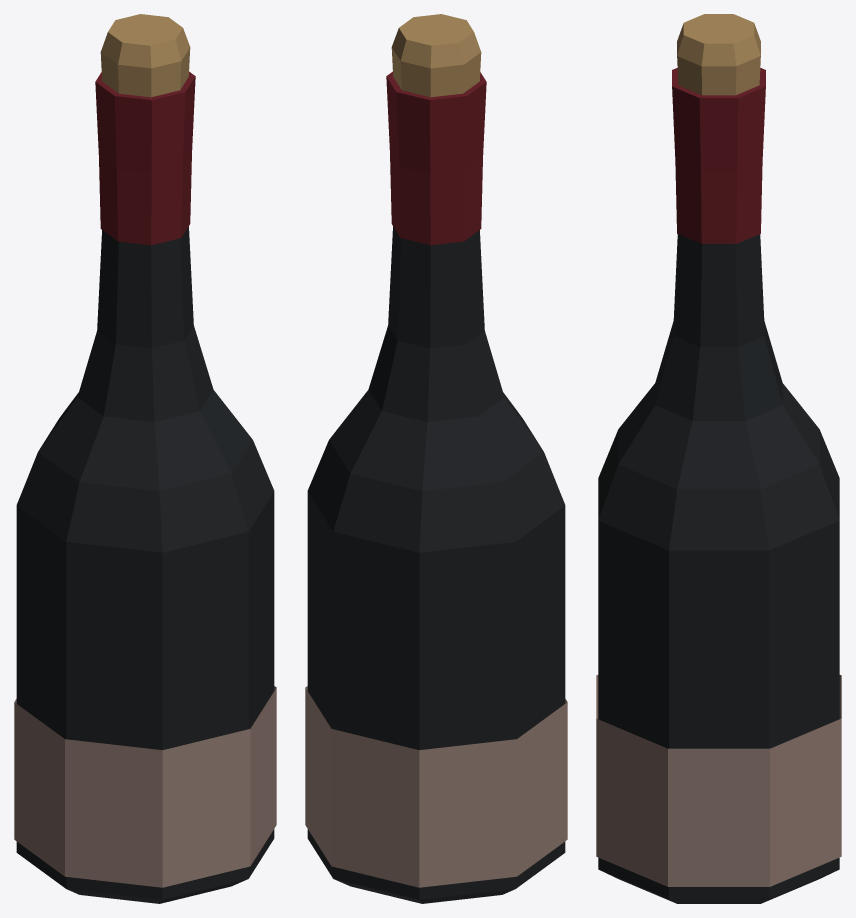
File: WineBottle.fbx
The picture shows the model from 3 angles, left to right: view 1: azimuth 30°, elevation 25°; view 2: azimuth 150°, elevation 25°; view 3: azimuth 270°, elevation 25°; orthographic projection.
Visible parts, largest first — view 1: Bottle_Body, Bottle_Label, Bottle_Foil, Bottle_Cork; view 2: Bottle_Body, Bottle_Label, Bottle_Foil, Bottle_Cork; view 3: Bottle_Body, Bottle_Label, Bottle_Foil, Bottle_Cork.
Boxes of the visible parts, <box> form: Bottle_Body: <box>16,226,274,903</box>; Bottle_Label: <box>14,686,276,887</box>; Bottle_Foil: <box>95,71,195,245</box>; Bottle_Cork: <box>100,14,190,97</box>; Bottle_Body: <box>307,226,565,903</box>; Bottle_Label: <box>305,686,567,887</box>; Bottle_Foil: <box>386,71,486,245</box>; Bottle_Cork: <box>391,14,481,97</box>; Bottle_Body: <box>598,234,839,903</box>; Bottle_Label: <box>596,675,841,886</box>; Bottle_Foil: <box>672,68,765,243</box>; Bottle_Cork: <box>677,14,760,95</box>.
Size of the model in its own units: 67.63 by 253 by 67.63.
